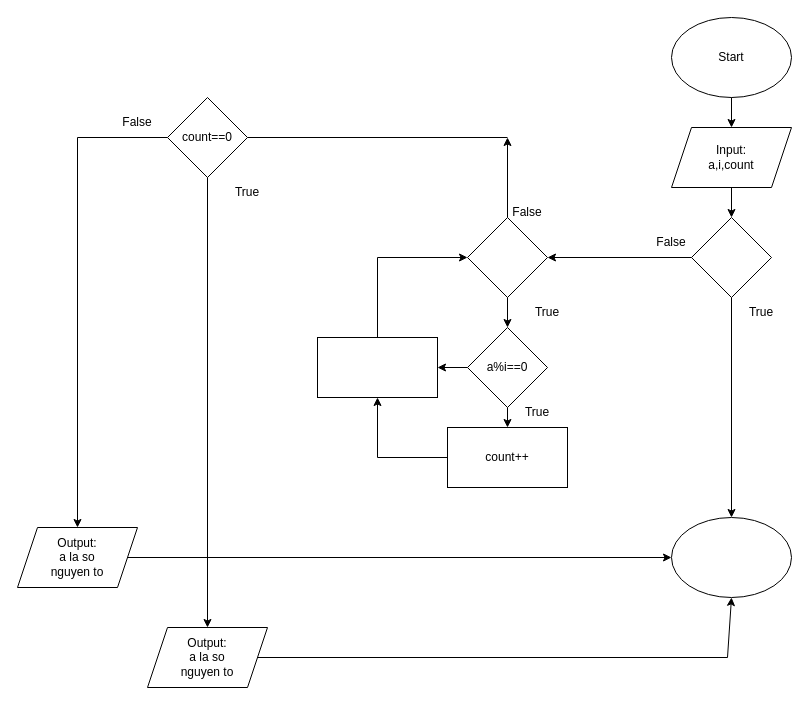
Image size: 809x705. Some labels were removed from this diagram. The centre of each missing label's shape, as x and y in pixels:
"End" belongs at [731,557].
"i++" belongs at [377,367].
"i<=0" belongs at [731,257].
"i<=sqrt(a)" belongs at [507,257].
